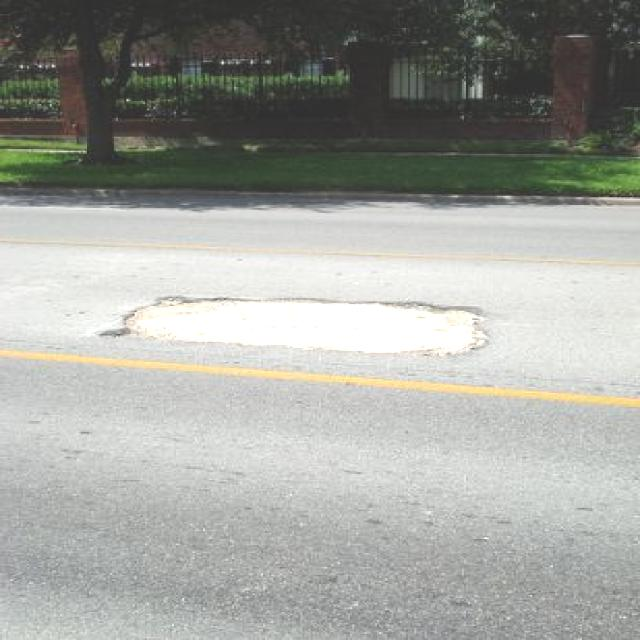pothole: (91, 288, 503, 356)
